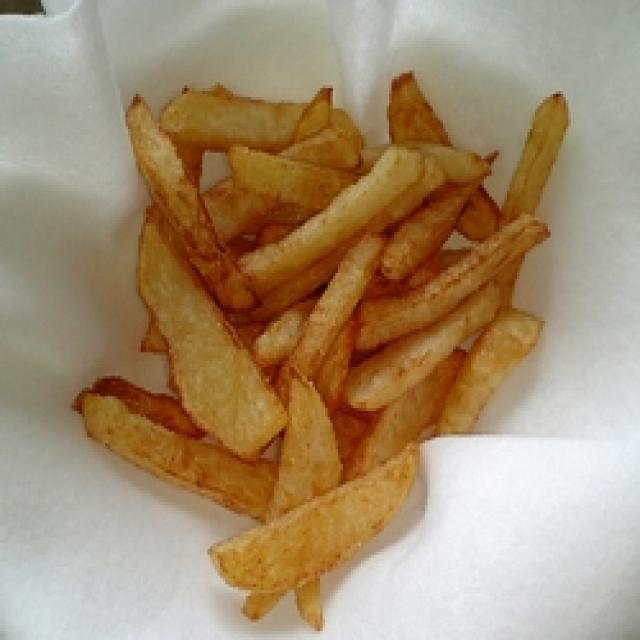French Fries: (75, 70, 567, 568)
